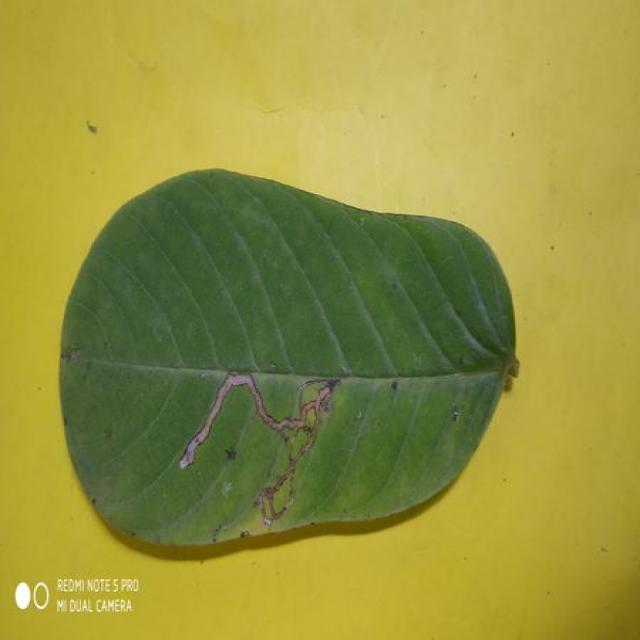chakte: (60, 170, 517, 544)
disease in leaf: (118, 370, 502, 544)
